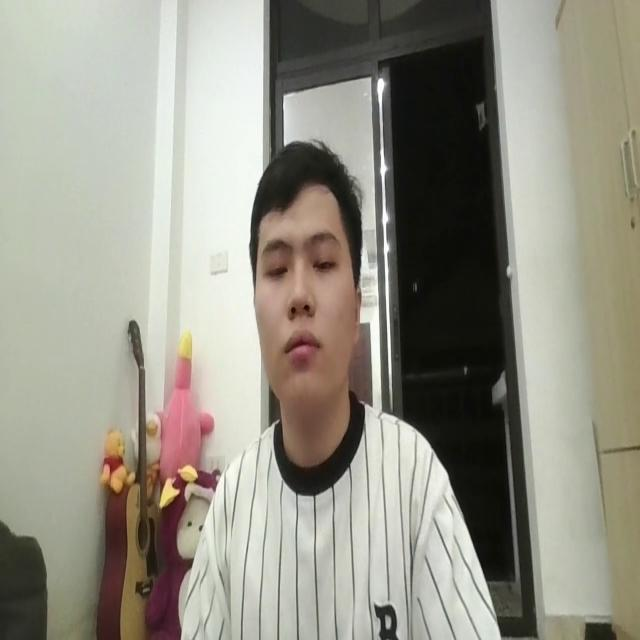student: (178, 138, 504, 640)
